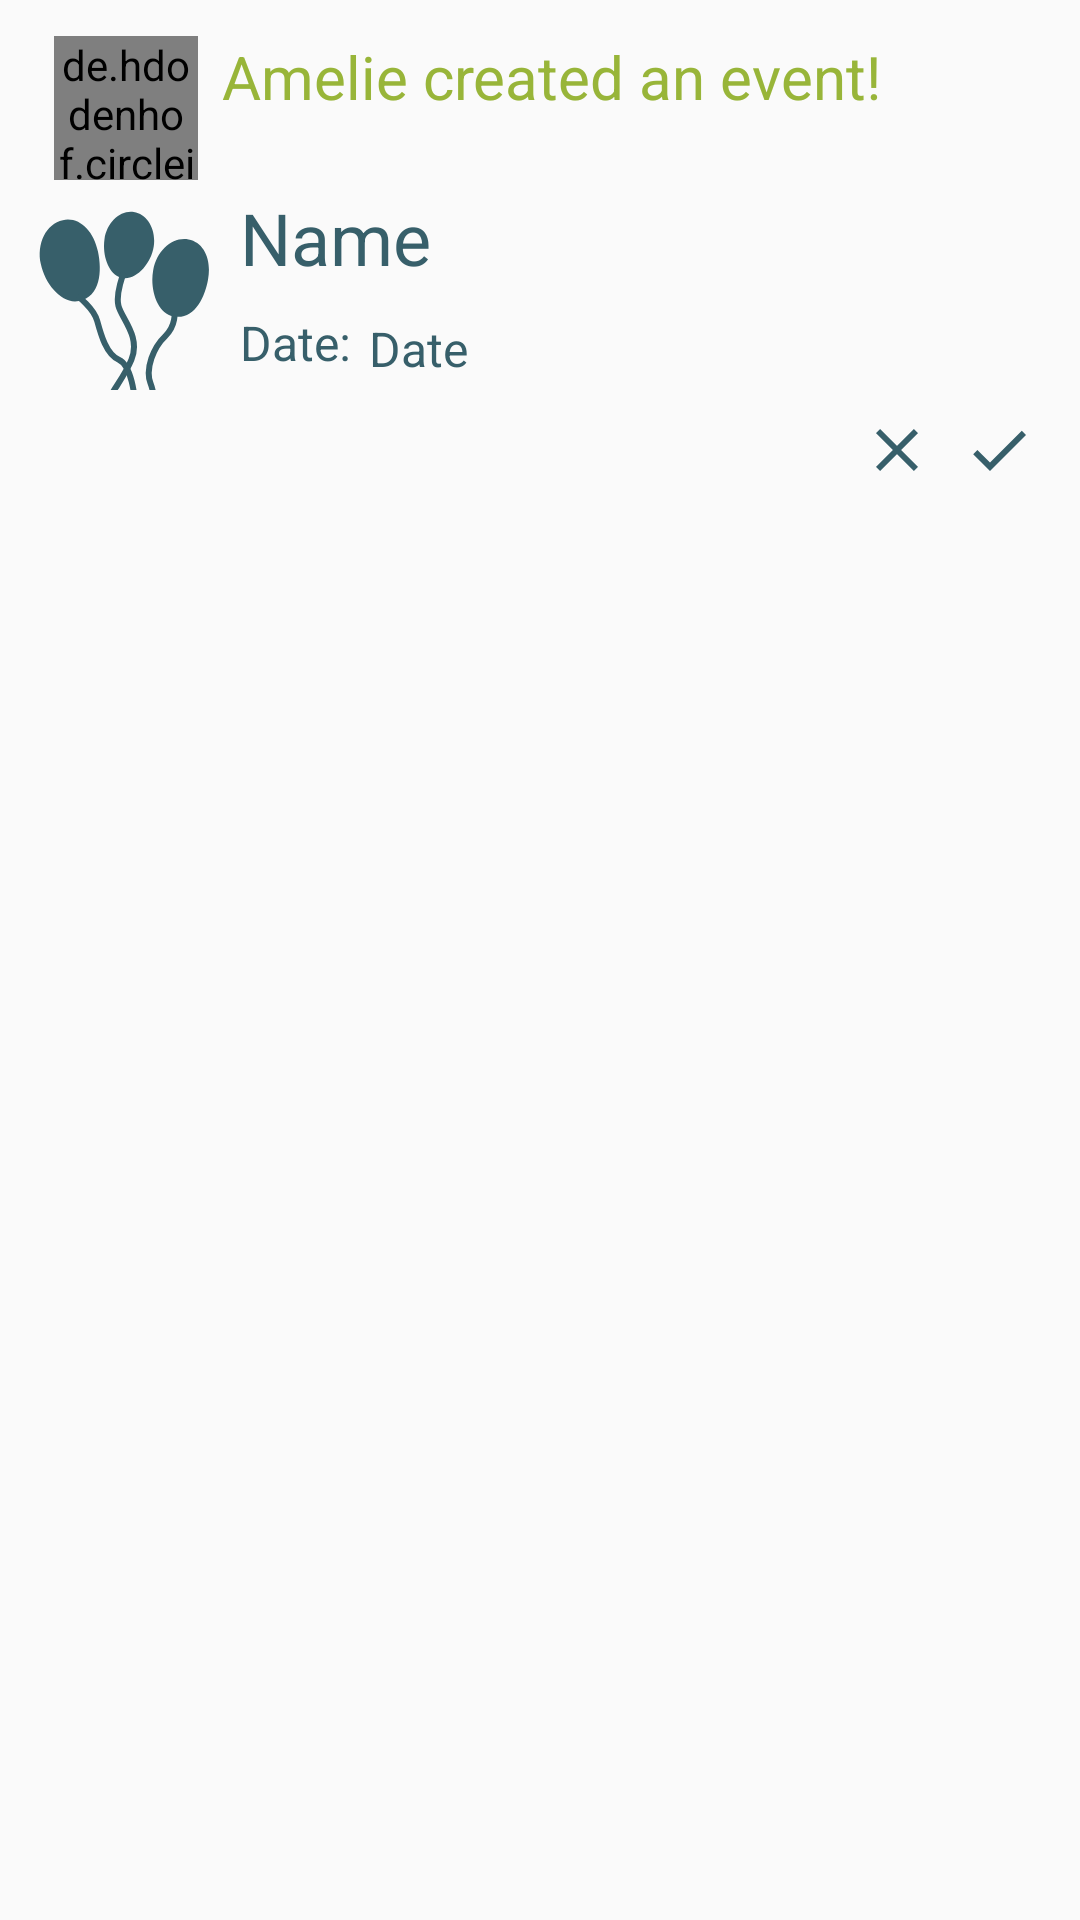

Named icons in this screenshot (1080w x 1920h) and their bounding boxes, (x1,y1,x2,y2):
close: (876,429,918,471)
done: (973,431,1026,471)
